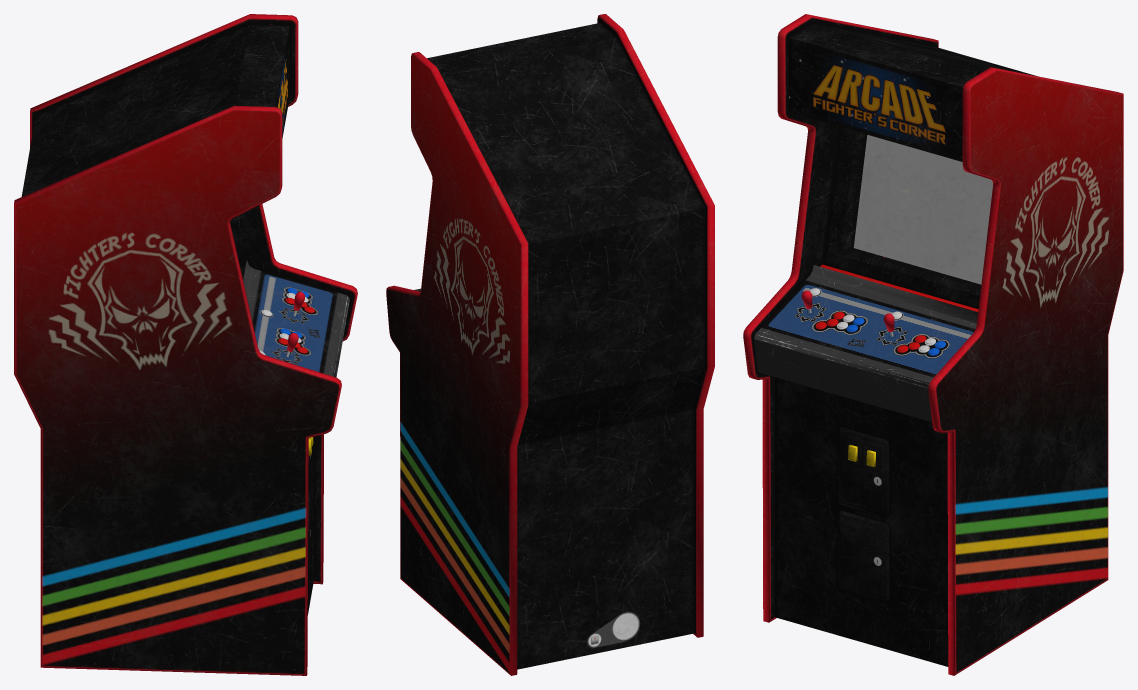
File: Arcade.fbx
3 renders of one model, left to right at view 1: azimuth 30°, elevation 25°; view 2: azimuth 150°, elevation 25°; view 3: azimuth 270°, elevation 25°, orthographic. The views are drawn at different scales.
Visible parts, largest first — view 1: Arcade.001; view 2: Arcade.001; view 3: Arcade.001.
Boxes of the visible parts, box(x1,y1,x2,y2) form: Arcade.001: box(14, 14, 357, 675); Arcade.001: box(386, 14, 714, 675); Arcade.001: box(743, 14, 1123, 675).
Bounding box in the file's own units: 525 × 823 × 489.
